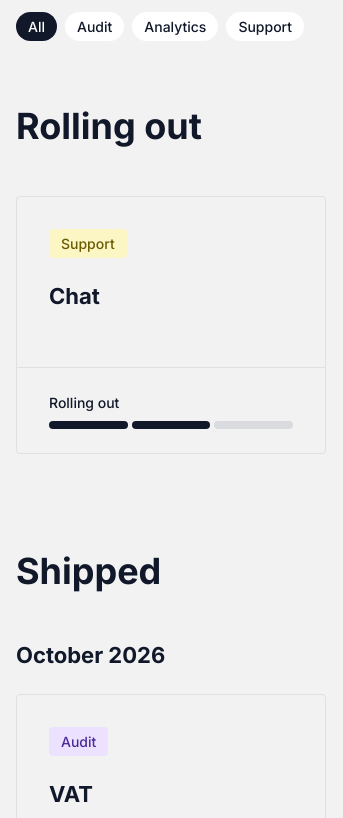
Test case: ReleaseTimelineBlock › filters all three sections and hides the empty ones
Click the button "Audit".
click(95, 26)  # box [65, 12, 124, 41]
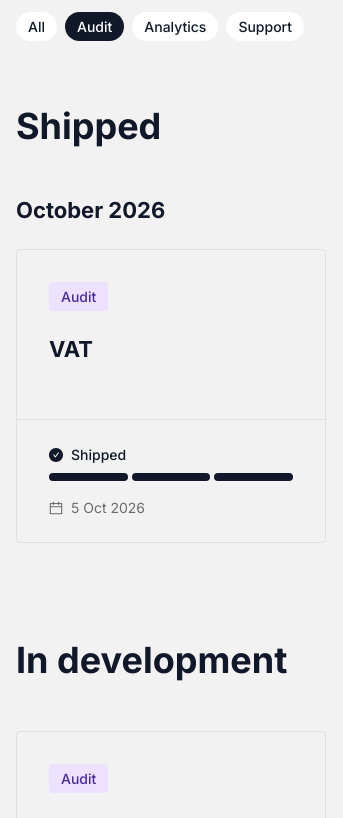
Expected: the headings read "Shipped", "In development", in this order, [16, 104, 161, 148]; [16, 638, 287, 682]
Expected: the heading "Chat" is gone
